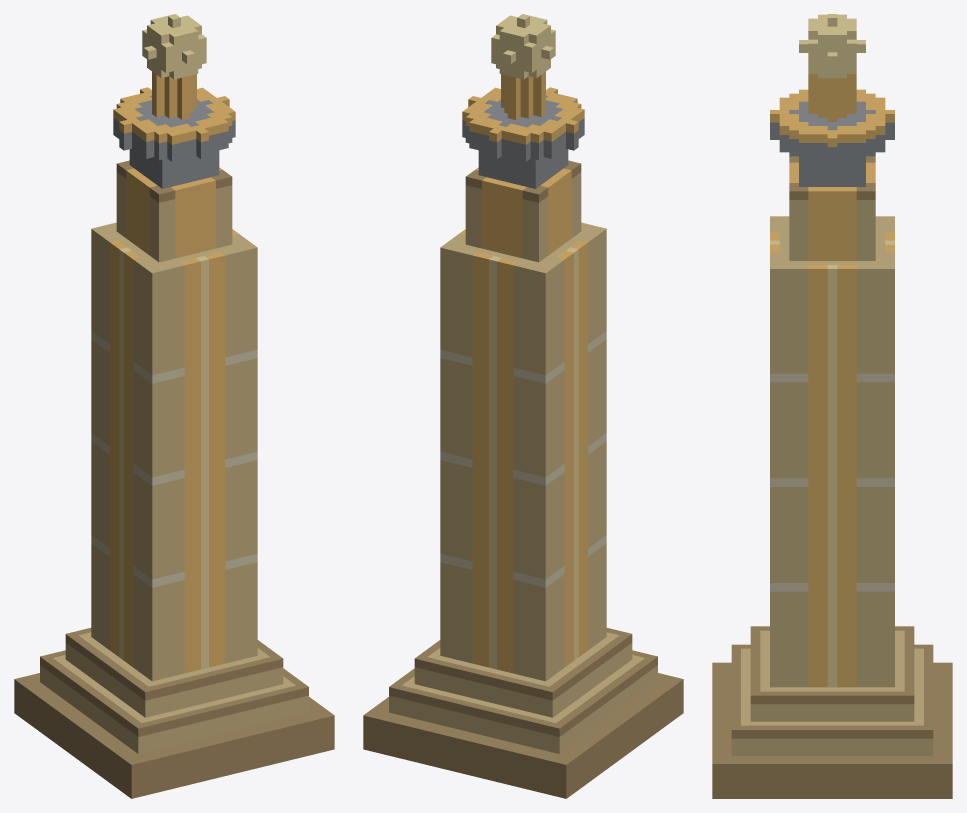
The picture shows the model from 3 angles, left to right: view 1: azimuth 30°, elevation 25°; view 2: azimuth 150°, elevation 25°; view 3: azimuth 270°, elevation 25°; orthographic projection. The views are drawn at different scales.
Bounding box in the file's own units: 25 × 84 × 25.
